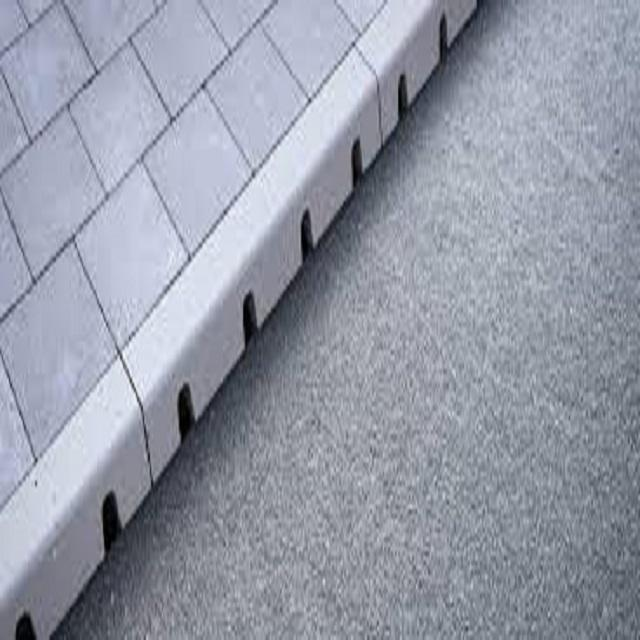curb: (2, 390, 190, 632), (202, 91, 401, 262), (113, 242, 291, 422), (342, 7, 495, 105)
